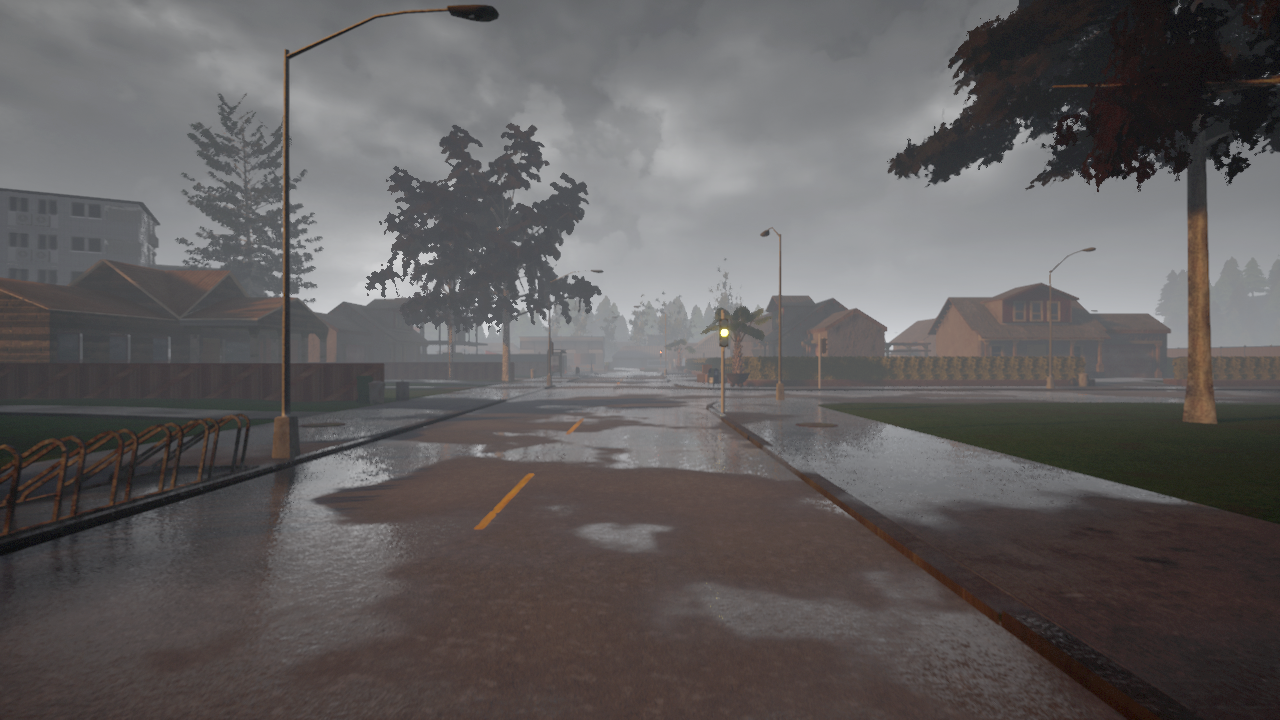yellow: (719, 319, 728, 347)
